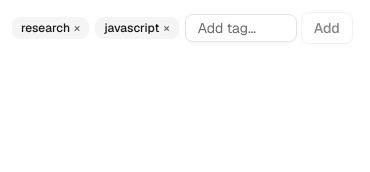
Test: TagInput › shows an inline error and does not report a change when adding fails
Type "planning" into the field labelled "Add tag" at [241, 28], box [185, 14, 297, 42]
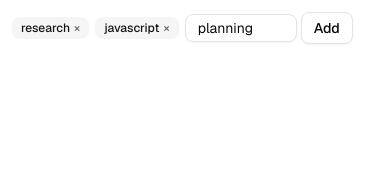
Click the button "Add" at [327, 28], box [301, 12, 353, 44]
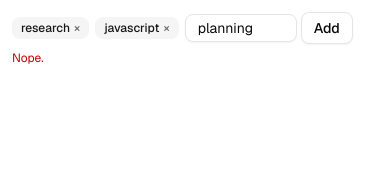
expect the message reads "Nope.": met, box [12, 50, 44, 66]
